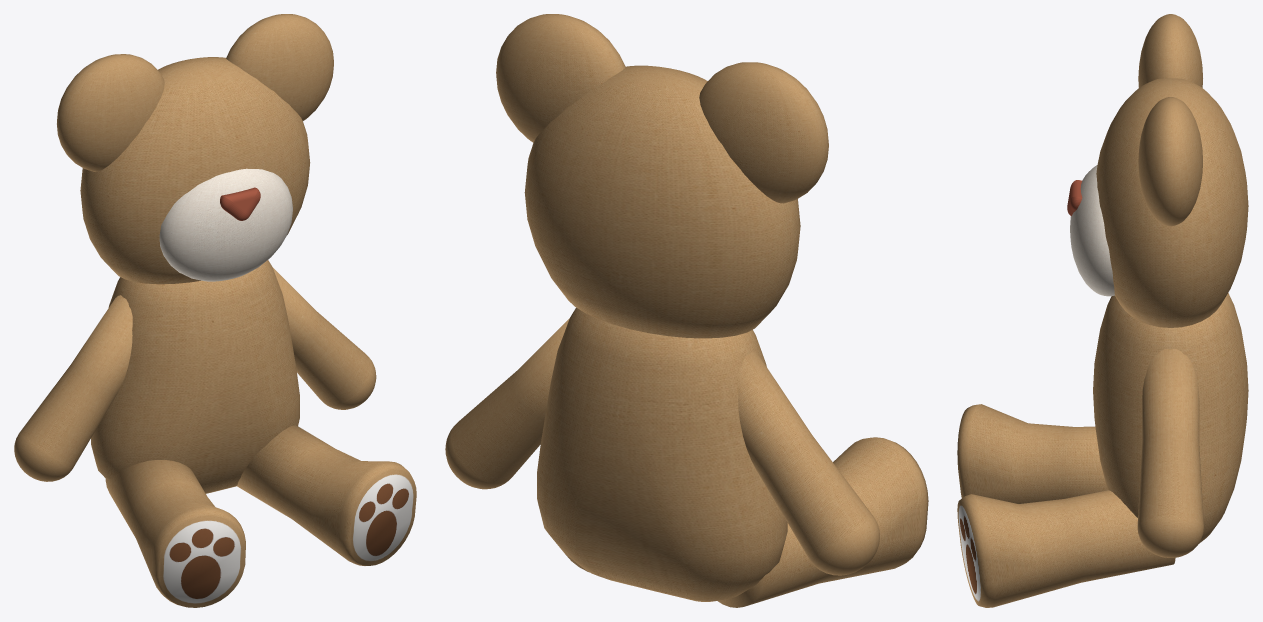
The model's file is FabricBear.fbx.
The picture shows the model from 3 angles, left to right: view 1: azimuth 30°, elevation 25°; view 2: azimuth 150°, elevation 25°; view 3: azimuth 270°, elevation 25°; orthographic projection. The views are drawn at different scales.
Visible parts, largest first — view 1: head, body, leg_left, leg_right, arm_right, arm_left; view 2: head, body, arm_right, leg_right, arm_left; view 3: head, body, leg_left, arm_left, leg_right.
Part boxes in pixels (x1=…): head: x1=57, y1=14, x2=333, y2=284; body: x1=91, y1=260, x2=299, y2=493; leg_left: x1=237, y1=425, x2=416, y2=565; leg_right: x1=105, y1=459, x2=245, y2=607; arm_right: x1=14, y1=295, x2=132, y2=481; arm_left: x1=272, y1=267, x2=376, y2=409; head: x1=496, y1=14, x2=828, y2=338; body: x1=537, y1=307, x2=787, y2=601; arm_right: x1=738, y1=351, x2=879, y2=575; leg_right: x1=718, y1=437, x2=928, y2=607; arm_left: x1=445, y1=318, x2=569, y2=489; head: x1=1067, y1=14, x2=1248, y2=327; body: x1=1093, y1=293, x2=1248, y2=543; leg_left: x1=957, y1=490, x2=1175, y2=607; arm_left: x1=1137, y1=349, x2=1203, y2=557; leg_right: x1=957, y1=404, x2=1107, y2=503.
Size of the model in its own units: 3.25 by 4.24 by 2.25.
